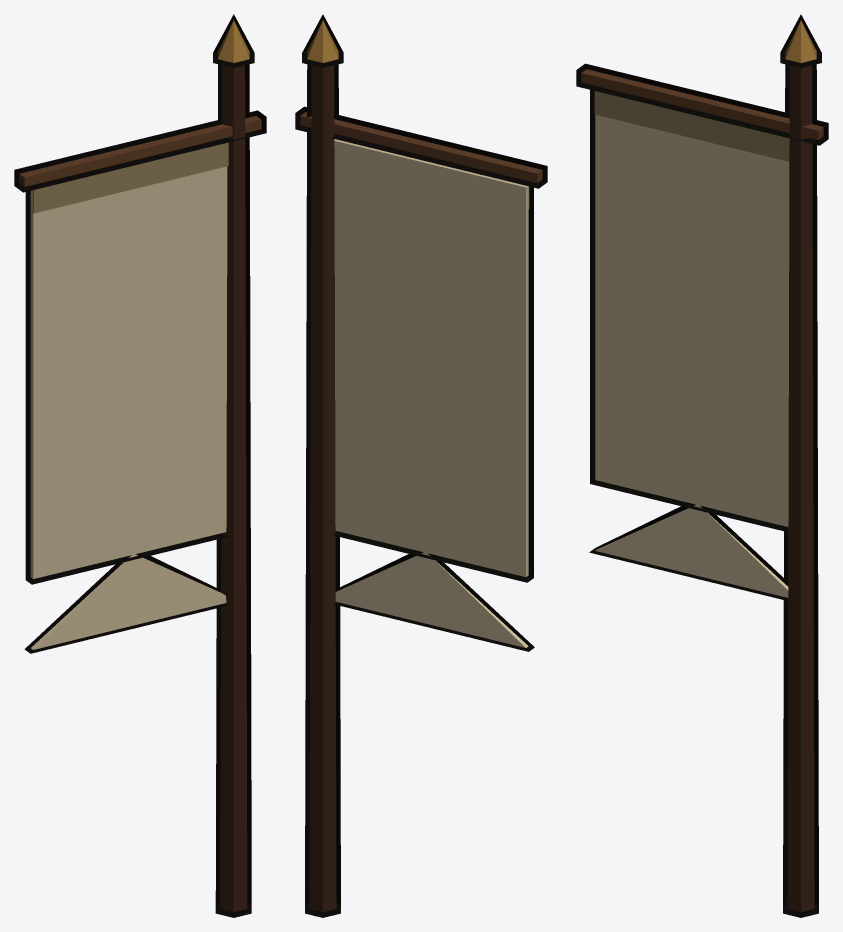
The model's file is banner.glb.
3 views of the same model, side by side, from view 1: azimuth 30°, elevation 25°; view 2: azimuth 150°, elevation 25°; view 3: azimuth 330°, elevation 25° (orthographic).
Visible parts, largest first — view 1: Prop_hearth_banner; view 2: Prop_hearth_banner; view 3: Prop_hearth_banner.
Boxes of the visible parts, x1,y1,x2,y2 form: Prop_hearth_banner: [14, 14, 266, 917]; Prop_hearth_banner: [295, 14, 547, 917]; Prop_hearth_banner: [576, 14, 828, 917].
Size of the model in its own units: 1.08 by 3.79 by 0.1601.
